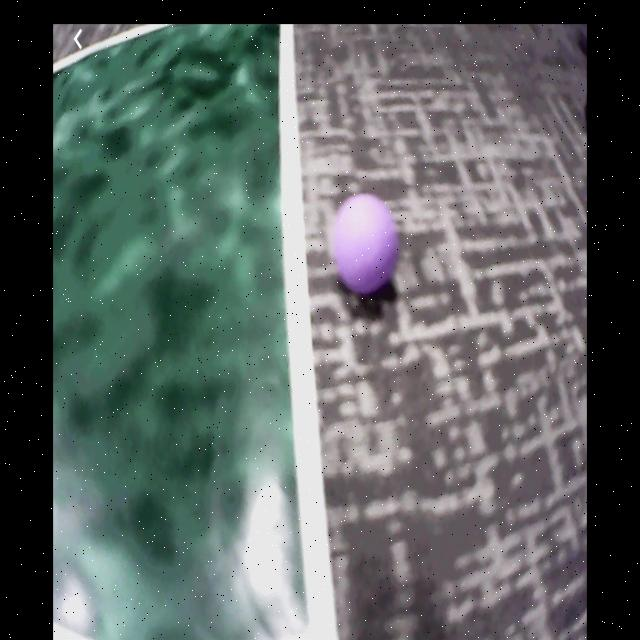ball: (332, 192, 401, 297)
